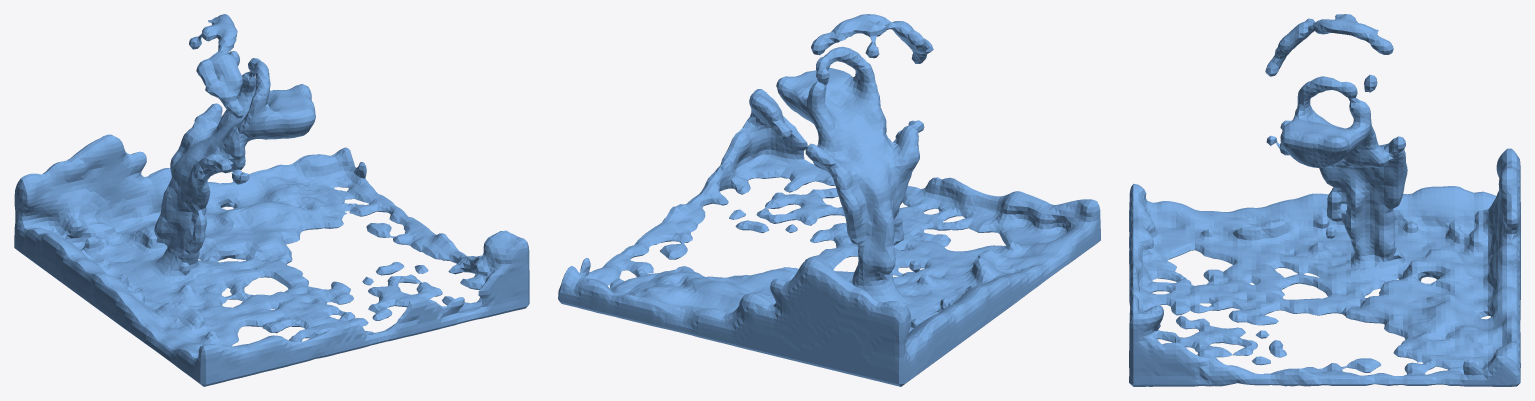
Rendered from water_0071.glb.
3 views of the same model, side by side, from view 1: azimuth 30°, elevation 25°; view 2: azimuth 150°, elevation 25°; view 3: azimuth 270°, elevation 25° (orthographic). The views are drawn at different scales.
Parts seen in each view (by area): view 1: Water_0071; view 2: Water_0071; view 3: Water_0071.
Part boxes in pixels (x1=…): Water_0071: x1=14, y1=14, x2=529, y2=386; Water_0071: x1=558, y1=14, x2=1100, y2=386; Water_0071: x1=1129, y1=14, x2=1520, y2=386.
Size of the model in its own units: 4.83 by 3.63 by 4.83.
